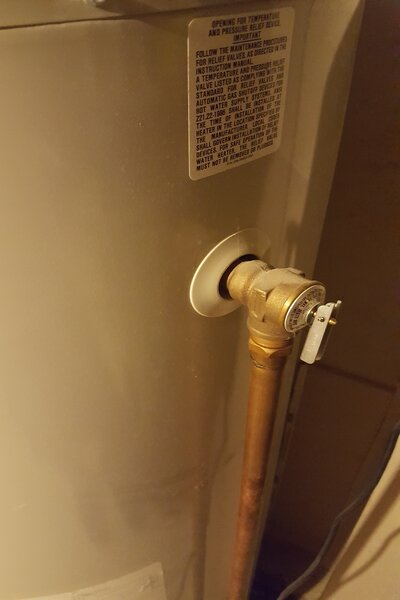valve: (216, 254, 337, 400)
